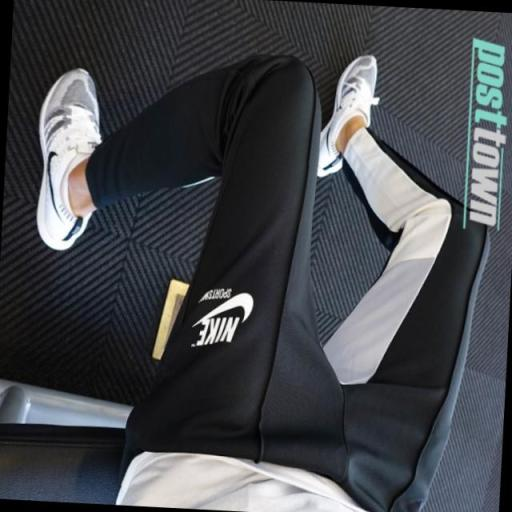Nike: (190, 288, 256, 329), (196, 312, 239, 350)
